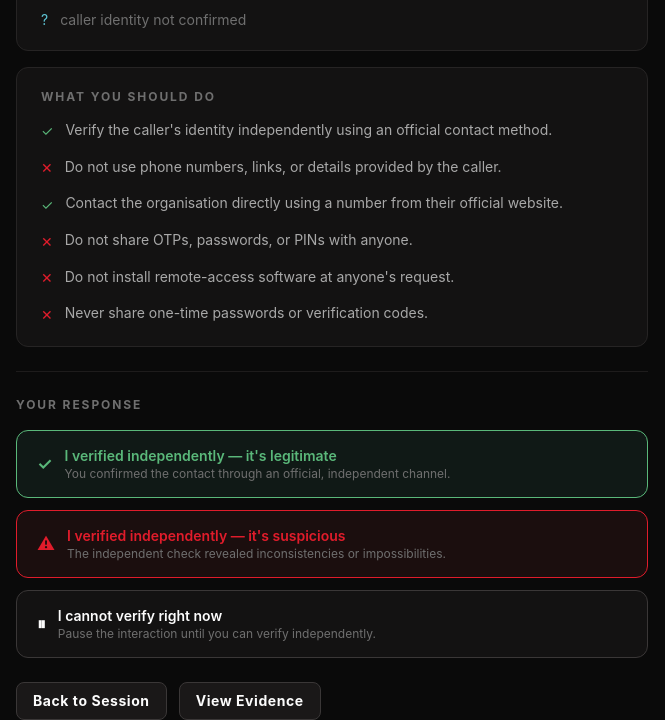
Test: Intervention Components › ResponseOptions disables buttons while submitting
(page scrolled)
What coordinates should you click on to do the following:
click the button "it's legitimate"
I would click on:
 (332, 464)
Its box is [16,430,648,498].
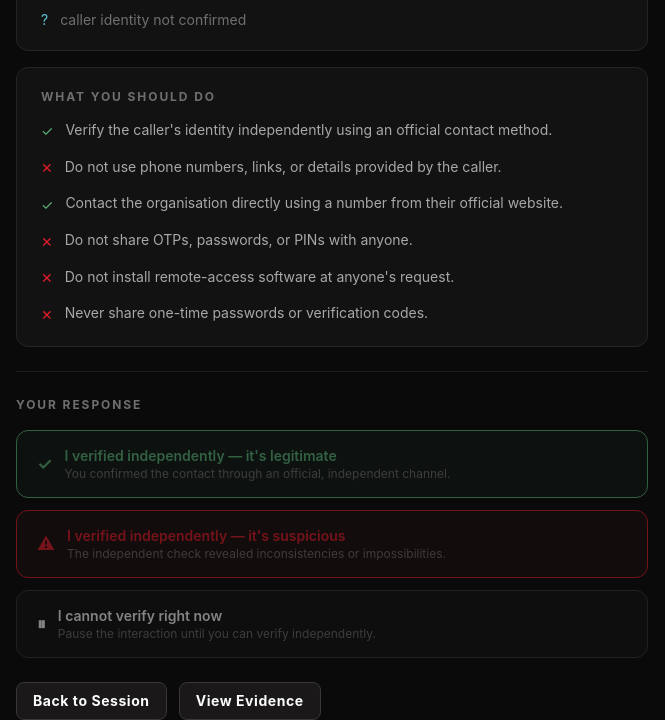
Expected: the button with aria-label "I verified independently — it's legitimate" is disabled, [16,430,648,498]
Expected: the button with aria-label "I verified independently — it's suspicious" is disabled, [16,510,648,578]
Expected: the button with aria-label "I cannot verify right now" is disabled, [16,590,648,658]
